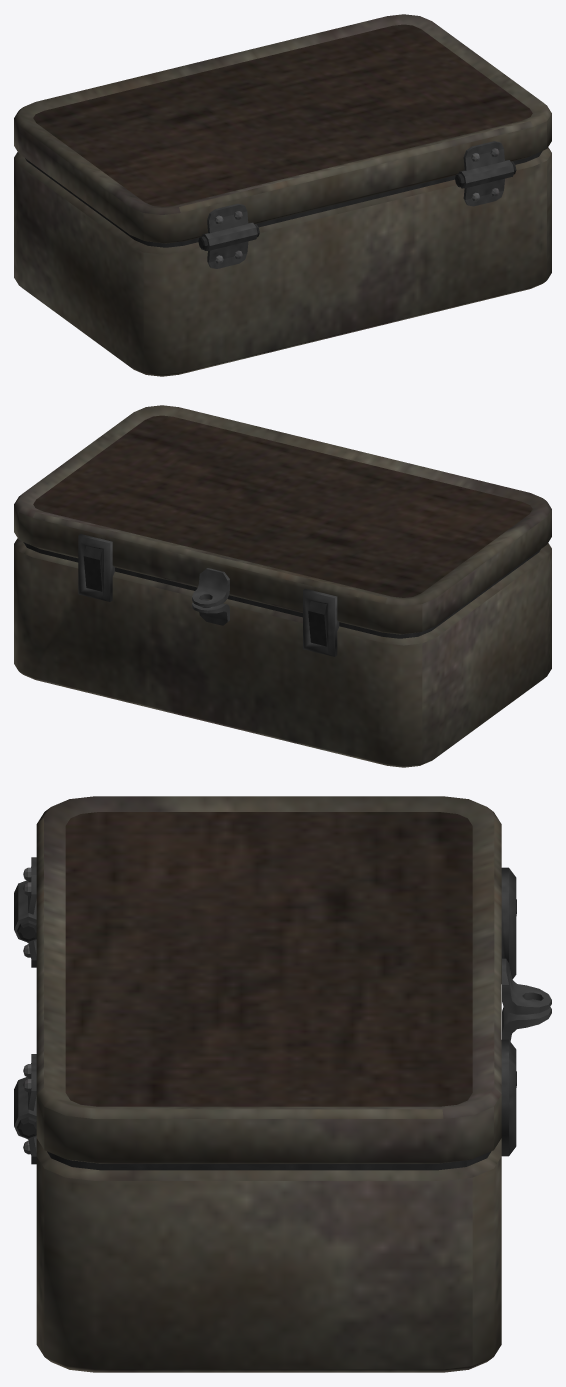
The model's file is metal_crate_2.obj.
The picture shows the model from 3 angles, top to bottom: view 1: azimuth 30°, elevation 25°; view 2: azimuth 150°, elevation 25°; view 3: azimuth 270°, elevation 25°; orthographic projection. The views are drawn at different scales.
Visible parts, largest first — view 1: metal_crate_2; view 2: metal_crate_2; view 3: metal_crate_2.
Part boxes in pixels (left/top/right/bottom): metal_crate_2: left=14, top=14, right=551, bottom=376; metal_crate_2: left=14, top=405, right=551, bottom=767; metal_crate_2: left=14, top=796, right=551, bottom=1372.
Bounding box in the file's own units: 0.52 × 0.2 × 0.3702.
